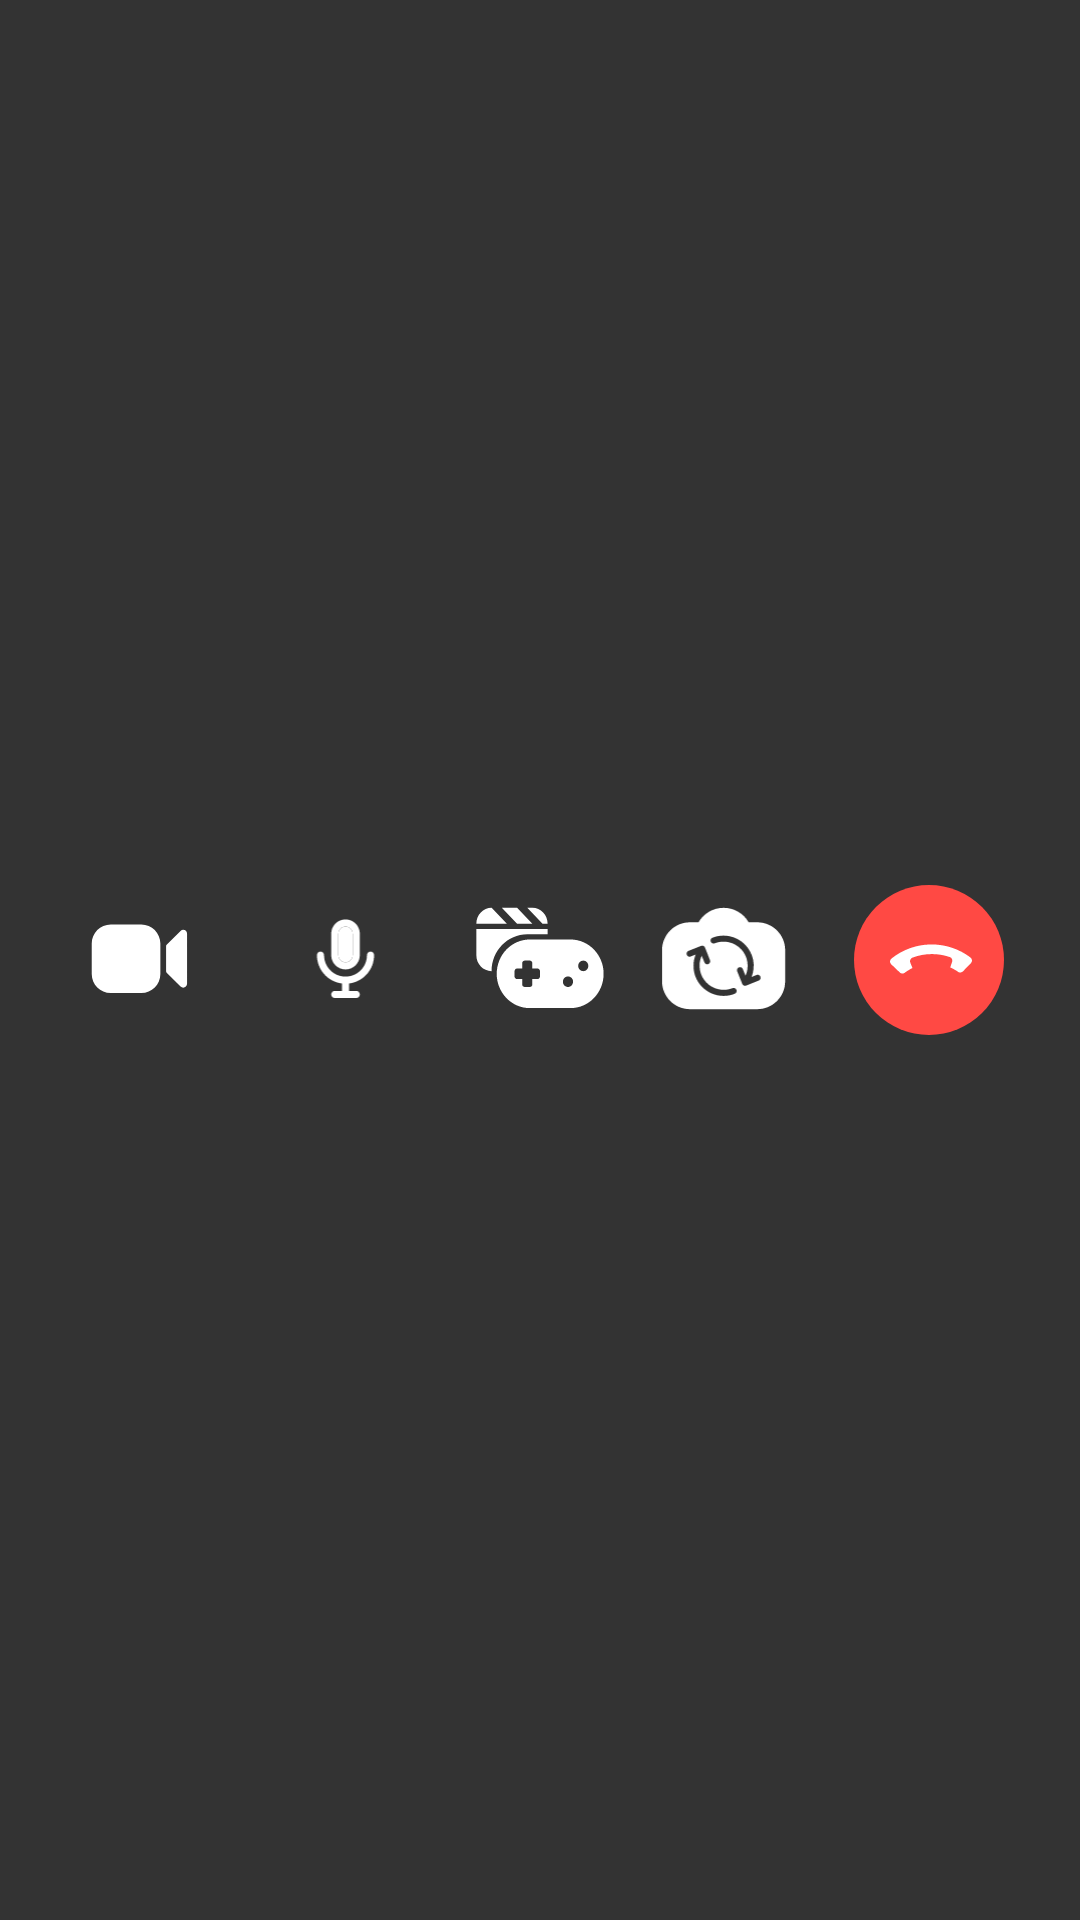

Point at icon controls on the screen. Image size 1080px x 1920px, points as (x,y).
cancel call: (929,960)
mic: (345,958)
swap camera: (724,958)
video: (139,958)
